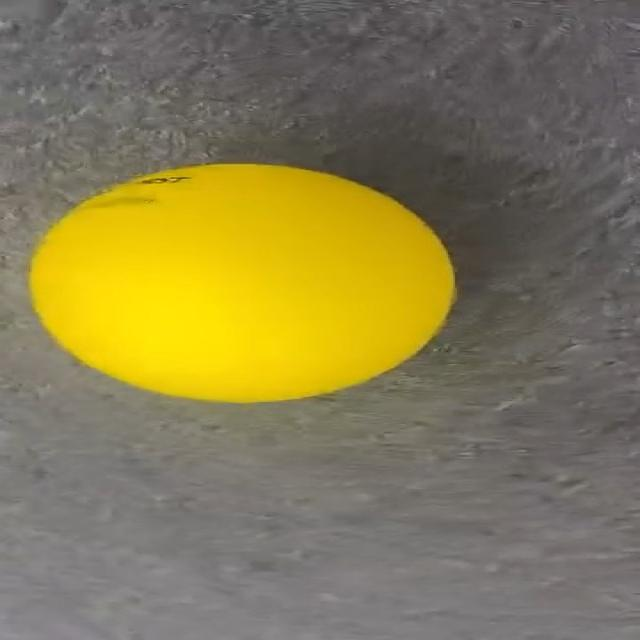Fuels: (32, 164, 453, 404)
